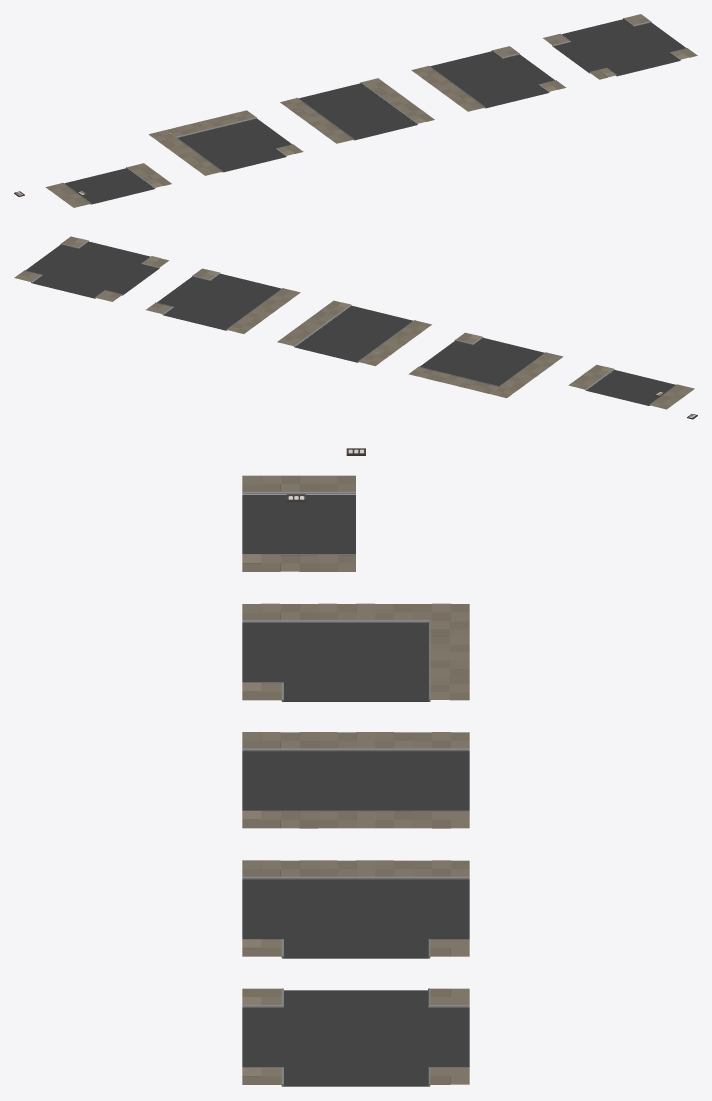
The model's file is streets.fbx.
The picture shows the model from 3 angles, top to bottom: view 1: azimuth 30°, elevation 25°; view 2: azimuth 150°, elevation 25°; view 3: azimuth 270°, elevation 25°; orthographic projection. The views are drawn at different scales.
Parts seen in each view (by area): view 1: Plane.008, Plane.004, Plane.011, Plane, Plane.019, Plane.013, Plane.003, Plane.006, Plane.002, Plane.015, Plane.009, Plane.021 (+2 smaller); view 2: Plane.008, Plane.004, Plane, Plane.011, Plane.019, Plane.013, Plane.003, Plane.006, Plane.002, Plane.015, Plane.009, Plane.021 (+2 smaller); view 3: Plane.008, Plane.004, Plane.011, Plane, Plane.019, Plane.002, Plane.003, Plane.006, Plane.013, Plane.015, Plane.009, Plane.020 (+2 smaller).
Part boxes in pixels (x1,y1,x2,y2): Plane.008: [553, 19, 686, 76]; Plane.004: [430, 51, 554, 108]; Plane.011: [178, 118, 291, 172]; Plane: [299, 83, 416, 140]; Plane.019: [64, 168, 153, 204]; Plane.013: [149, 130, 221, 175]; Plane.003: [280, 98, 353, 143]; Plane.006: [411, 66, 484, 111]; Plane.002: [361, 78, 434, 123]; Plane.015: [166, 110, 255, 136]; Plane.009: [543, 14, 697, 79]; Plane.021: [45, 183, 90, 207]; Plane.008: [25, 241, 158, 298]; Plane.004: [157, 273, 281, 330]; Plane: [295, 306, 412, 362]; Plane.011: [419, 338, 544, 385]; Plane.019: [586, 370, 675, 405]; Plane.013: [490, 352, 563, 398]; Plane.003: [359, 320, 431, 366]; Plane.006: [227, 288, 300, 333]; Plane.002: [277, 300, 350, 346]; Plane.015: [408, 367, 498, 393]; Plane.009: [14, 236, 168, 301]; Plane.021: [650, 384, 694, 409]; Plane.008: [242, 990, 469, 1086]; Plane.004: [242, 879, 469, 958]; Plane.011: [242, 623, 429, 701]; Plane: [242, 751, 469, 810]; Plane.019: [242, 495, 355, 553]; Plane.002: [242, 811, 469, 828]; Plane.003: [242, 732, 469, 748]; Plane.006: [242, 860, 469, 876]; Plane.013: [242, 603, 469, 620]; Plane.015: [430, 621, 469, 700]; Plane.009: [242, 988, 469, 1084]; Plane.020: [242, 554, 355, 571].
Bounding box in the file's own units: 3976 × 8.5 × 600.
